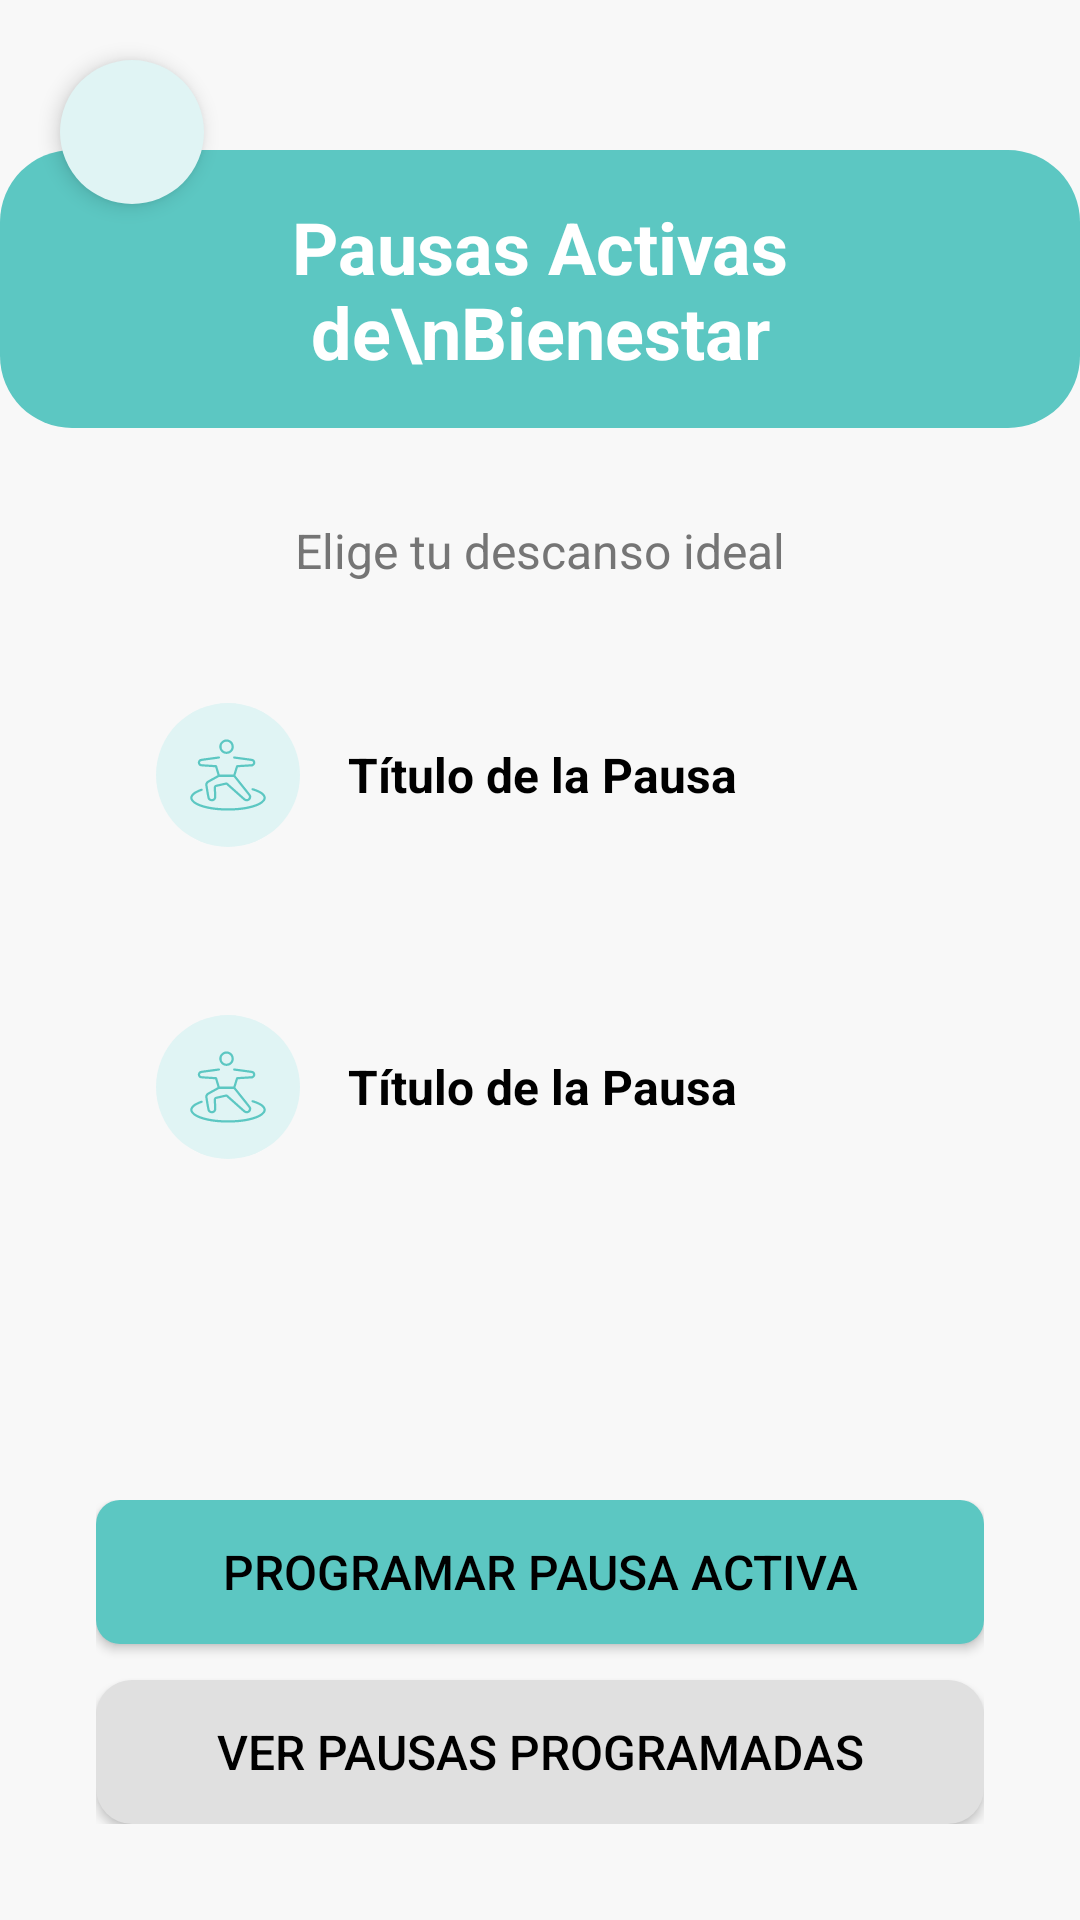

Where to tap for icons on this 1080px x 1920px app screen, as point (x, y):
stretch: point (228, 775), point (228, 1087)
